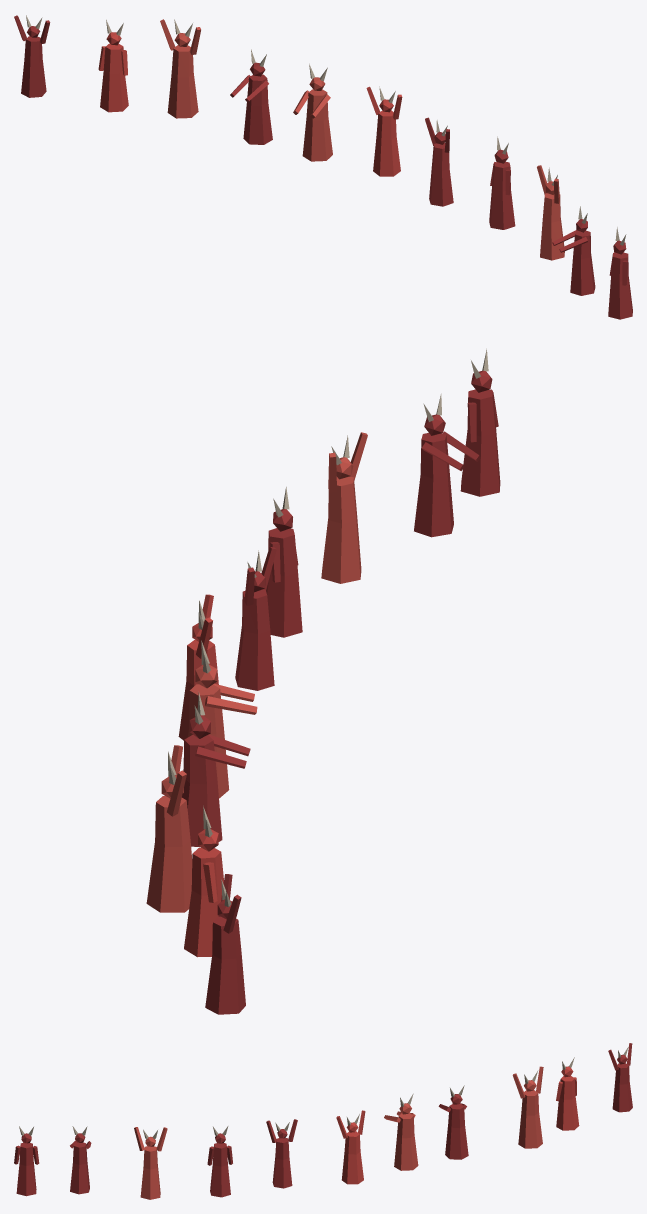
Rendered from Stands_7_1_1_Ice.obj.
3 renders of one model, top to bottom at view 1: azimuth 30°, elevation 25°; view 2: azimuth 150°, elevation 25°; view 3: azimuth 270°, elevation 25°, orthographic. The views are drawn at different scales.
Visible parts, largest first — view 1: Stands_7_1_1_Ice; view 2: Stands_7_1_1_Ice; view 3: Stands_7_1_1_Ice.
Boxes of the visible parts, bbox=[...] form: Stands_7_1_1_Ice: bbox=[14, 15, 632, 319]; Stands_7_1_1_Ice: bbox=[146, 348, 500, 1014]; Stands_7_1_1_Ice: bbox=[14, 1043, 632, 1199].
Bounding box in the file's own units: 12.03 × 4.21 × 32.33.
Materials: 1 (1 with a texture image).
